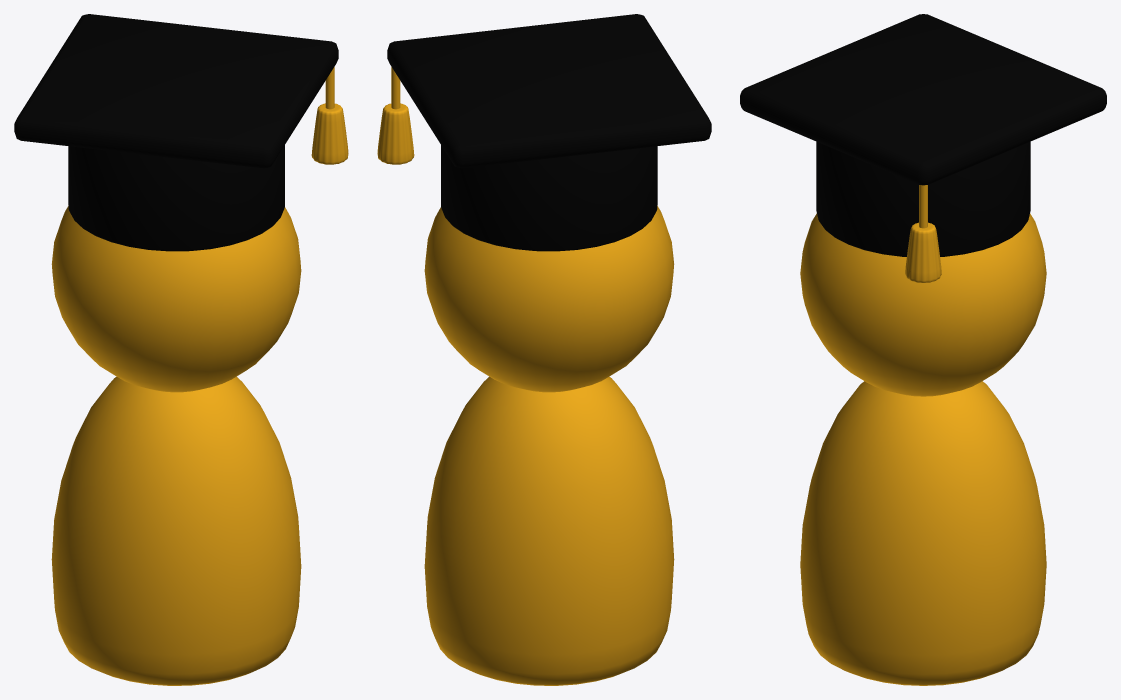
The model's file is student_icon.glb.
The picture shows the model from 3 angles, left to right: view 1: azimuth 30°, elevation 25°; view 2: azimuth 150°, elevation 25°; view 3: azimuth 270°, elevation 25°; orthographic projection.
Parts seen in each view (by area): view 1: 0015; view 2: 0015; view 3: 0015.
Boxes of the visible parts, box(x1,y1,x2,y2) form: 0015: box(14, 14, 348, 685); 0015: box(377, 14, 711, 685); 0015: box(740, 14, 1106, 685).
Bounding box in the file's own units: 1.05 × 1.71 × 1.03.
